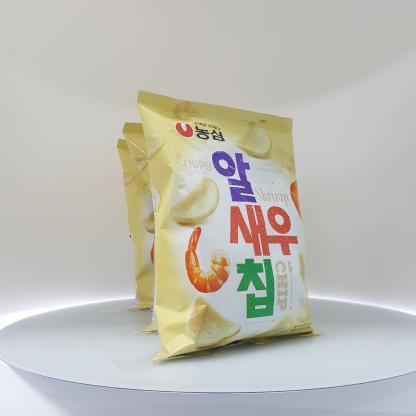Plastic Packaging: (110, 78, 332, 374)
